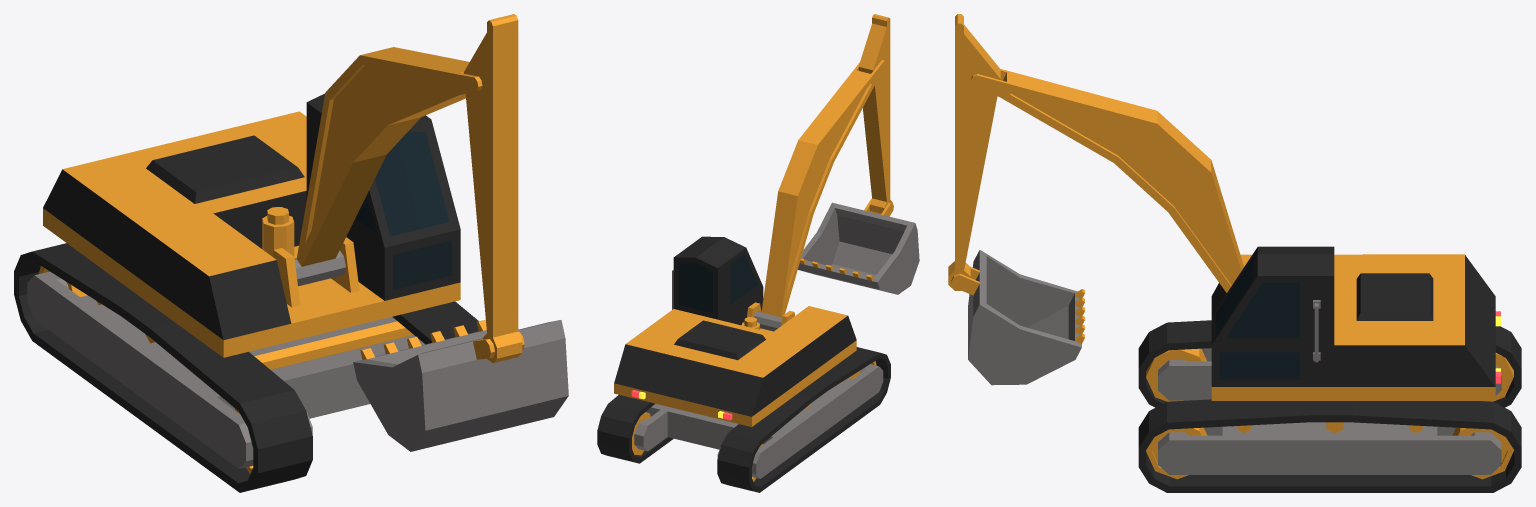
Rendered from excavator.glb.
3 renders of one model, left to right at view 1: azimuth 30°, elevation 25°; view 2: azimuth 150°, elevation 25°; view 3: azimuth 270°, elevation 25°, orthographic. The views are drawn at different scales.
Visible parts, largest first — view 1: excavator-base, excavator-belt, excavator-bucket, excavator-chassis, excavator-arm-base, excavator-arm-top, excavator-wheel_TF; view 2: excavator-base, excavator-arm-base, excavator-belt, excavator-bucket, excavator-chassis, excavator-arm-top; view 3: excavator-base, excavator-belt, excavator-chassis, excavator-arm-base, excavator-bucket, excavator-arm-top, excavator-wheel_F, excavator-wheel_B.
Part boxes in pixels (bbox=[...]): excavator-base: bbox=[43, 93, 460, 357]; excavator-belt: bbox=[14, 243, 478, 492]; excavator-bucket: bbox=[353, 319, 568, 451]; excavator-chassis: bbox=[27, 271, 424, 468]; excavator-arm-base: bbox=[294, 47, 482, 286]; excavator-arm-top: bbox=[463, 14, 522, 363]; excavator-wheel_TF: bbox=[254, 321, 413, 369]; excavator-base: bbox=[614, 236, 856, 426]; excavator-arm-base: bbox=[753, 59, 886, 331]; excavator-belt: bbox=[597, 347, 890, 492]; excavator-bucket: bbox=[797, 198, 919, 294]; excavator-chassis: bbox=[634, 364, 883, 478]; excavator-arm-top: bbox=[858, 14, 892, 214]; excavator-base: bbox=[1211, 246, 1500, 400]; excavator-belt: bbox=[1138, 320, 1521, 492]; excavator-chassis: bbox=[1158, 348, 1501, 474]; excavator-arm-base: bbox=[971, 69, 1243, 292]; excavator-bucket: bbox=[951, 250, 1084, 385]; excavator-arm-top: bbox=[948, 14, 1000, 290]; excavator-wheel_F: bbox=[1146, 348, 1207, 479]; excavator-wheel_B: bbox=[1452, 353, 1513, 479].
Size of the model in its own units: 3.1 by 6.1 by 7.48.
1 material, 1 textured.
